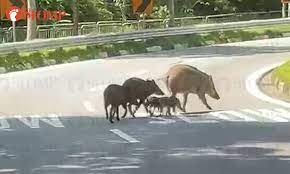boar: (167, 64, 220, 113), (123, 77, 166, 118), (100, 84, 140, 123)
